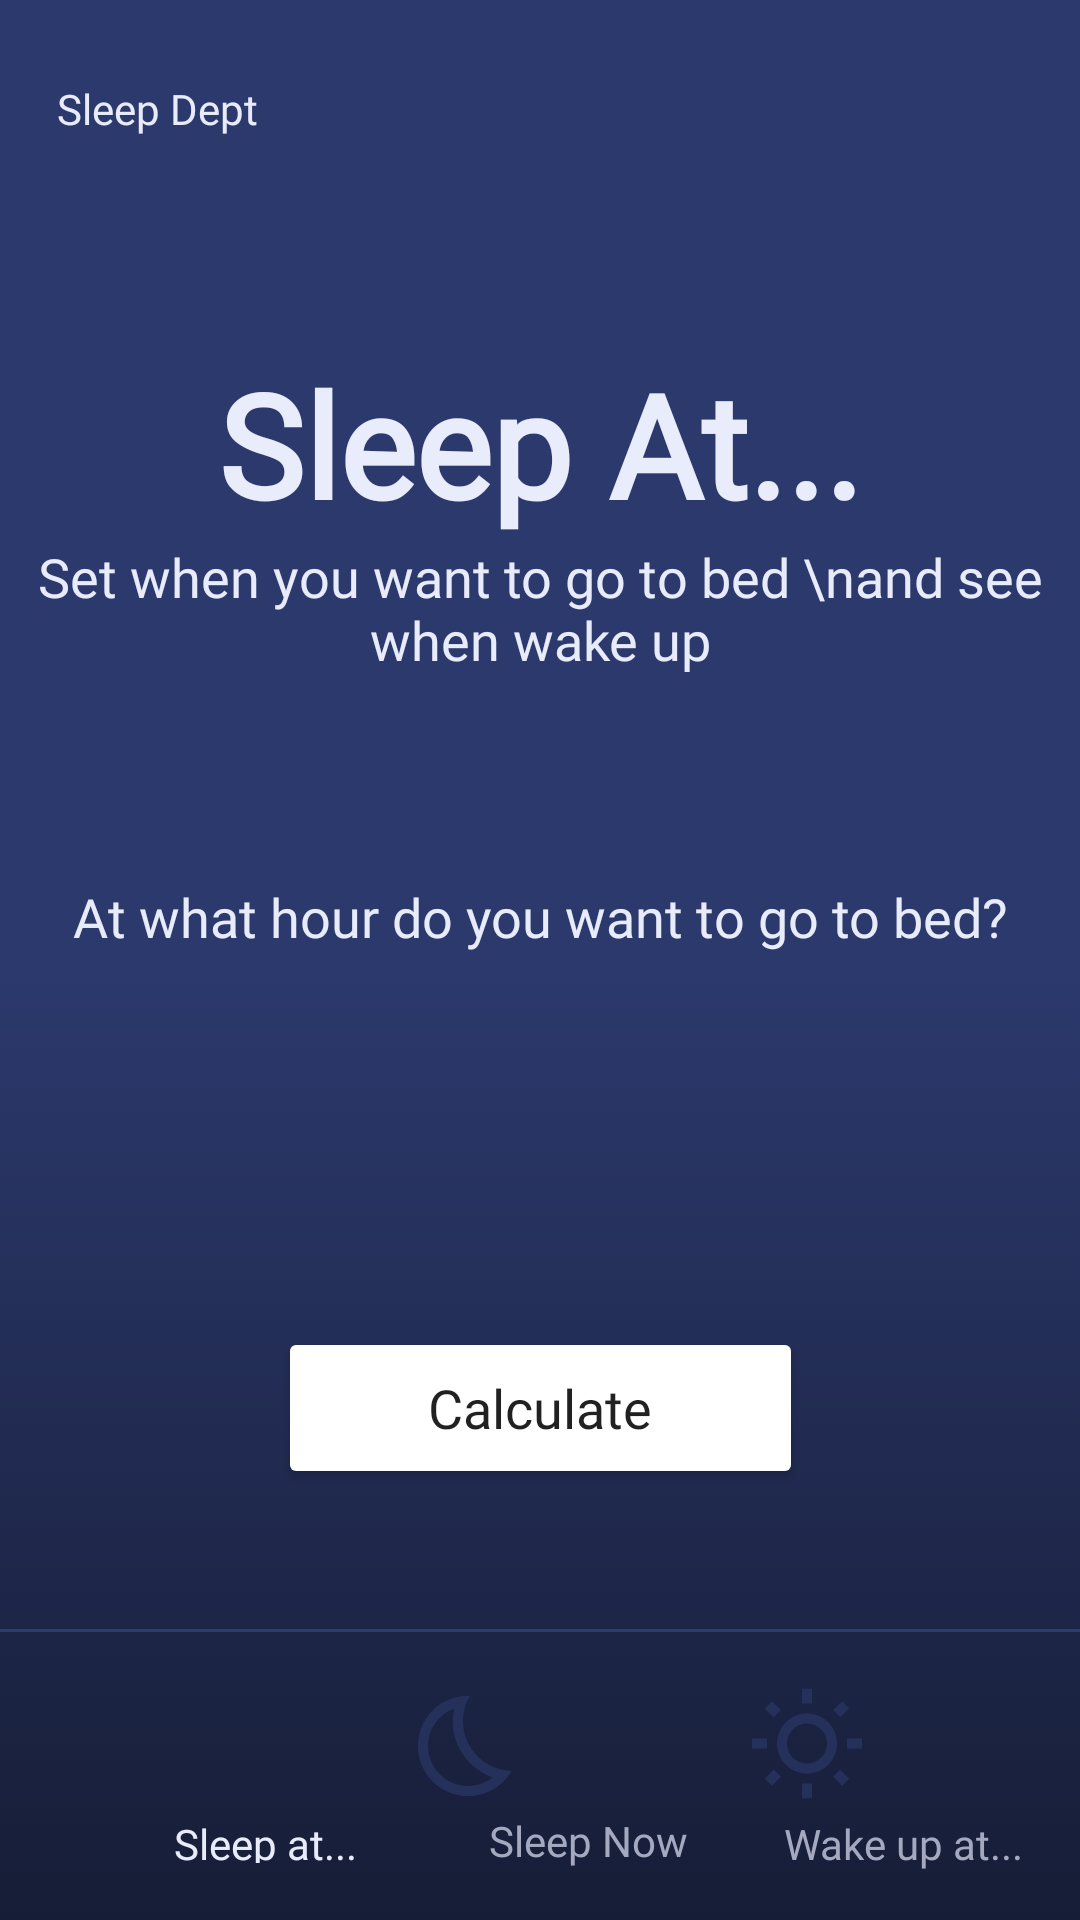

Point at icon controls on the screen. Image size 1080x1920, points as point (x, y).
bedtime off: point (464, 1746)
sunny off: point (807, 1743)
